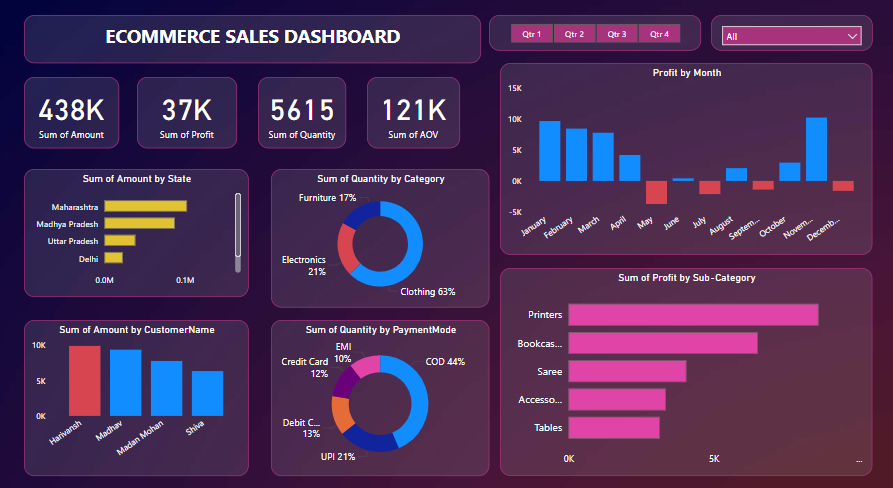

The dashboard page shown, as its layout file describes it:
{"tool":"powerbi","page":{"name":"Page 1","canvas":[1280,720],"ordinal":0},"visuals":[{"type":"textbox","box":[35.3,28.6,653.4,68.9],"z":0},{"type":"columnChart","title":"Profit by Month","fields":{"Category":["Orders.Order Date.Variation.Date Hierarchy.Month"],"Y":["Sum(Details.Profit)"]},"box":[715.6,97.4,532.5,273.8],"z":1000},{"type":"barChart","fields":{"Category":["Details.Sub-Category"],"Y":["Sum(Details.Profit)"]},"box":[715.6,389.7,532.5,297.3],"z":2000},{"type":"donutChart","fields":{"Category":["Details.Category"],"Y":["Sum(Details.Quantity)"]},"box":[388,248.6,312.4,198.2],"z":3000},{"type":"donutChart","fields":{"Y":["Sum(Details.Quantity)"],"Category":["Details.PaymentMode"]},"box":[388,463.6,312.4,223.4],"z":4000},{"type":"card","fields":{"Values":["Sum(Details.Amount)"]},"box":[35.3,117.6,136.1,102.5],"z":5000},{"type":"card","fields":{"Values":["Sum(Details.Quantity)"]},"box":[369.6,117.6,126,102.5],"z":6000},{"type":"card","fields":{"Values":["Sum(Details.Profit)"]},"box":[196.5,117.6,142.8,102.5],"z":7000},{"type":"card","fields":{"Values":["Sum(Details.AOV)"]},"box":[525.8,117.6,132.7,102.5],"z":8000},{"type":"barChart","fields":{"Category":["Orders.State"],"Y":["Sum(Details.Amount)"]},"box":[35.3,248.6,320.8,183.1],"z":9000},{"type":"columnChart","fields":{"Category":["Orders.CustomerName"],"Y":["Sum(Details.Amount)"]},"box":[35,464,321,223],"z":10000},{"type":"slicer","fields":{"Values":["Orders.Order Date.Variation.Date Hierarchy.Quarter"]},"box":[699.9,28.2,303.3,51.1],"z":11000},{"type":"slicer","fields":{"Values":["Orders.State"]},"box":[1017.3,28.2,231,51.1],"z":12000}]}

Visuals, with their boxes in screenshot pixels (x1, y1, x2, y2), scaled from the page's 1280x720 canvas onto the 893x488 screenshot:
textbox: box(25, 19, 480, 66)
"Profit by Month" columnChart: box(499, 66, 871, 252)
barChart - Details.Sub-Category x Sum(Details.Profit): box(499, 264, 871, 466)
donutChart - Details.Category x Sum(Details.Quantity): box(271, 168, 489, 303)
donutChart - Sum(Details.Quantity) x Details.PaymentMode: box(271, 314, 489, 466)
card - Sum(Details.Amount): box(25, 80, 120, 149)
card - Sum(Details.Quantity): box(258, 80, 346, 149)
card - Sum(Details.Profit): box(137, 80, 237, 149)
card - Sum(Details.AOV): box(367, 80, 459, 149)
barChart - Orders.State x Sum(Details.Amount): box(25, 168, 248, 293)
columnChart - Orders.CustomerName x Sum(Details.Amount): box(24, 314, 248, 466)
slicer - Orders.Order Date.Variation.Date Hierarchy.Quarter: box(488, 19, 700, 54)
slicer - Orders.State: box(710, 19, 871, 54)
